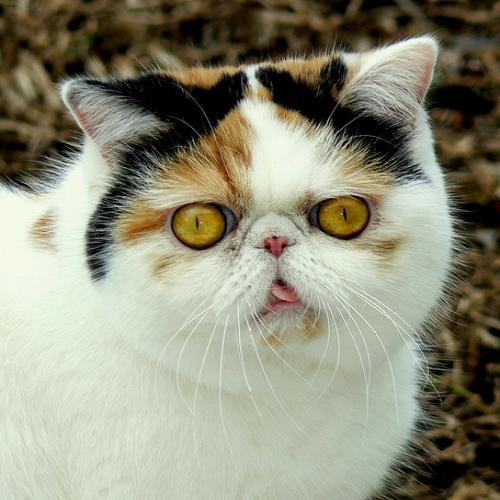persian: (42, 27, 469, 405)
